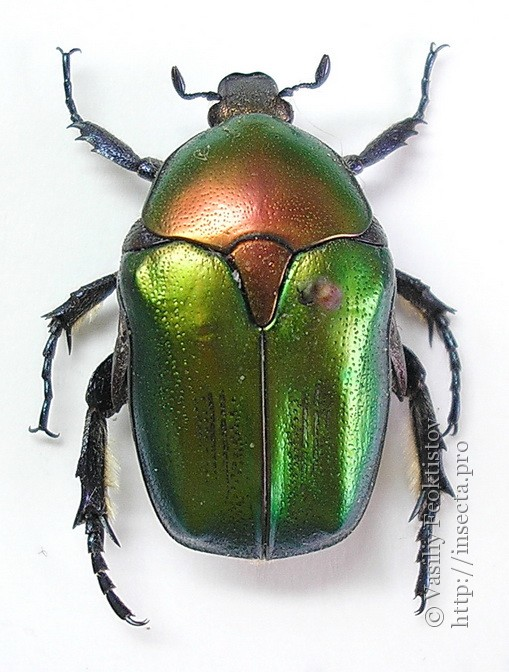Protaetia_cuprea_ignicollis: (23, 17, 467, 634)
